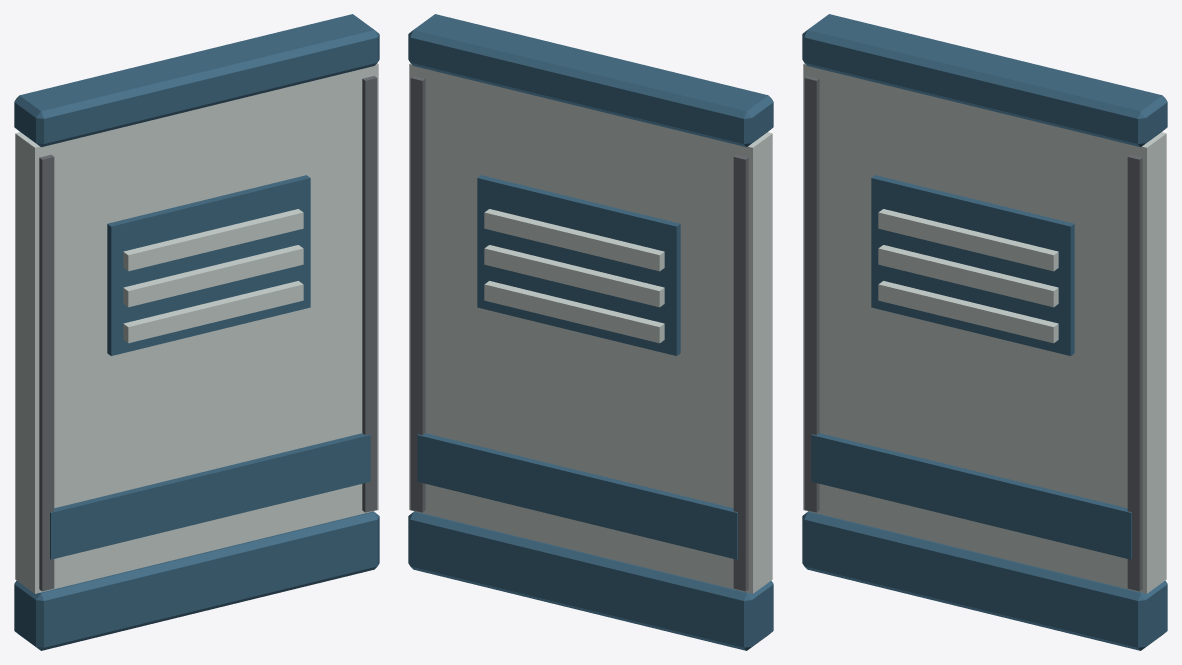
Rendered from installation-sensor-wall-solid.glb.
The picture shows the model from 3 angles, left to right: view 1: azimuth 30°, elevation 25°; view 2: azimuth 150°, elevation 25°; view 3: azimuth 330°, elevation 25°; orthographic projection.
Visible parts, largest first — view 1: wall_core, plinth, cornice, vent_inset, blue_service_band, panel_joint, panel_joint.002, vent_blade, vent_blade.002, vent_blade.004; view 2: wall_core, plinth, cornice, vent_inset.001, blue_service_band.001, panel_joint.001, panel_joint.003, vent_blade.001, vent_blade.003, vent_blade.005; view 3: wall_core, plinth, cornice, vent_inset, blue_service_band, panel_joint.002, panel_joint, vent_blade, vent_blade.002, vent_blade.004.
Boxes of the visible parts, bbox=[...] form: wall_core: bbox=[15, 63, 378, 593]; plinth: bbox=[14, 511, 379, 650]; cornice: bbox=[14, 14, 379, 147]; vent_inset: bbox=[107, 175, 310, 355]; blue_service_band: bbox=[50, 433, 370, 559]; panel_joint: bbox=[39, 154, 54, 591]; panel_joint.002: bbox=[362, 76, 377, 512]; vent_blade: bbox=[123, 281, 303, 343]; vent_blade.002: bbox=[123, 245, 303, 307]; vent_blade.004: bbox=[123, 209, 303, 271]; wall_core: bbox=[409, 63, 772, 593]; plinth: bbox=[408, 511, 773, 650]; cornice: bbox=[408, 14, 773, 147]; vent_inset.001: bbox=[477, 175, 680, 355]; blue_service_band.001: bbox=[417, 433, 737, 559]; panel_joint.001: bbox=[733, 154, 748, 591]; panel_joint.003: bbox=[410, 76, 425, 512]; vent_blade.001: bbox=[484, 281, 664, 343]; vent_blade.003: bbox=[484, 245, 664, 307]; vent_blade.005: bbox=[484, 209, 664, 271]; wall_core: bbox=[803, 63, 1166, 593]; plinth: bbox=[802, 511, 1167, 650]; cornice: bbox=[802, 14, 1167, 147]; vent_inset: bbox=[871, 175, 1074, 355]; blue_service_band: bbox=[811, 433, 1131, 559]; panel_joint.002: bbox=[1127, 154, 1142, 591]; panel_joint: bbox=[804, 76, 819, 512]; vent_blade: bbox=[878, 281, 1058, 343]; vent_blade.002: bbox=[878, 245, 1058, 307]; vent_blade.004: bbox=[878, 209, 1058, 271].
Size of the model in its own units: 1 by 1.5 by 0.19.
